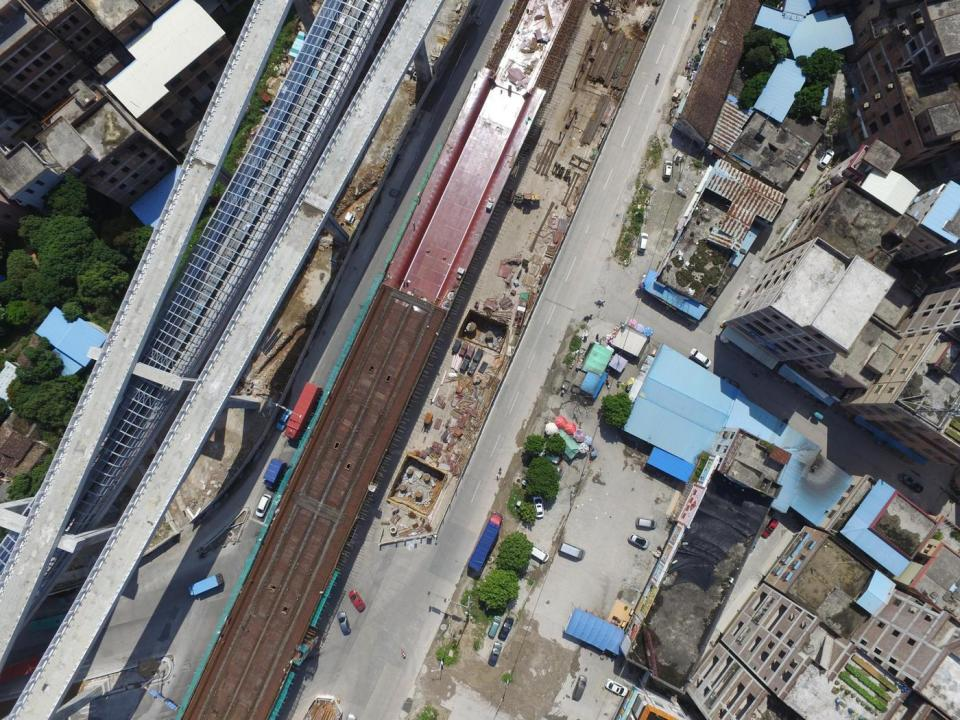car: (604, 679, 629, 697), (690, 348, 711, 368), (487, 641, 503, 667), (900, 474, 923, 492), (498, 616, 516, 638), (275, 407, 292, 430), (628, 532, 650, 549), (348, 589, 364, 612), (538, 448, 560, 464), (256, 493, 270, 518), (337, 610, 349, 636), (634, 516, 656, 530), (761, 519, 777, 538), (819, 150, 833, 170), (545, 464, 564, 478), (532, 496, 543, 519), (797, 157, 810, 175), (638, 231, 648, 252), (663, 159, 673, 178)
truck: (287, 379, 322, 442), (468, 512, 504, 571), (264, 458, 285, 490), (187, 576, 222, 594), (560, 380, 570, 396)
van: (557, 541, 585, 560), (717, 376, 739, 392), (573, 676, 587, 701), (529, 545, 548, 562), (488, 616, 501, 640)
